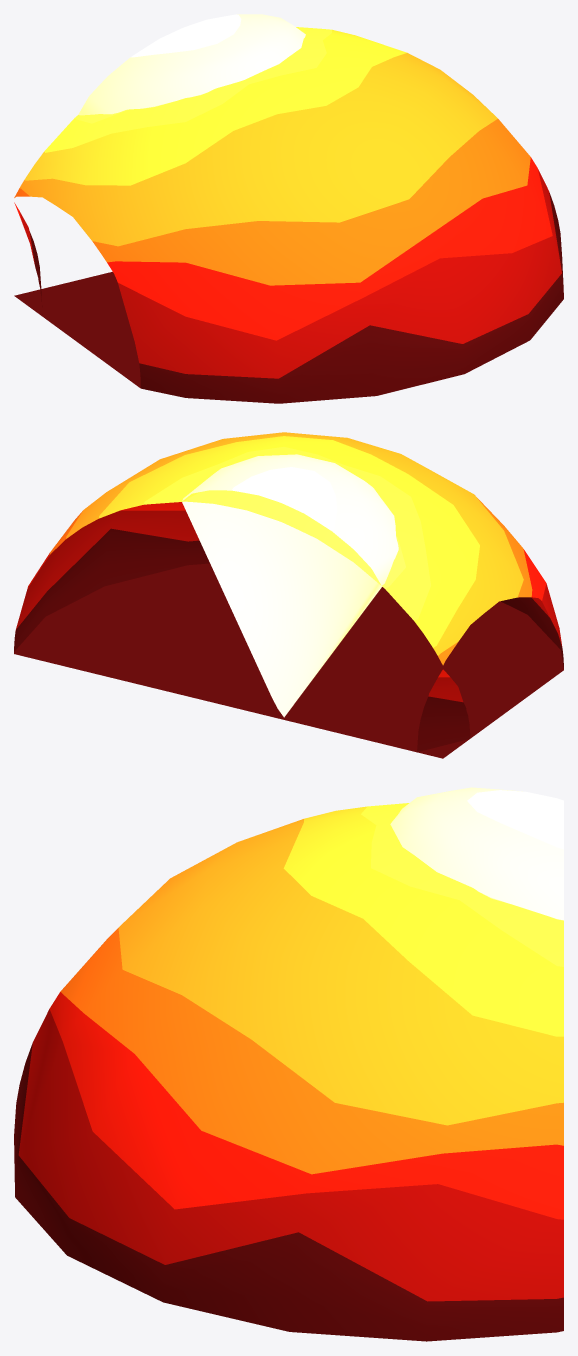
File: shot_charge_b245.glb
3 views of the same model, one above another, from view 1: azimuth 30°, elevation 25°; view 2: azimuth 150°, elevation 25°; view 3: azimuth 270°, elevation 25° (orthographic). The views are drawn at different scales.
Visible parts, largest first — view 1: charge_twin5_a_fire_shot_charge_b245, charge_twin5_a_core_shot_charge_b245; view 2: charge_twin5_a_fire_shot_charge_b245, charge_twin5_a_core_shot_charge_b245, charge_twin5_b_fire_shot_charge_b245; view 3: charge_twin5_a_fire_shot_charge_b245, charge_twin5_a_core_shot_charge_b245.
Boxes of the visible parts, x1,y1,x2,y2 form: charge_twin5_a_fire_shot_charge_b245: [14, 27, 563, 403]; charge_twin5_a_core_shot_charge_b245: [78, 14, 305, 115]; charge_twin5_a_fire_shot_charge_b245: [14, 432, 563, 754]; charge_twin5_a_core_shot_charge_b245: [182, 454, 398, 717]; charge_twin5_b_fire_shot_charge_b245: [417, 669, 470, 758]; charge_twin5_a_fire_shot_charge_b245: [14, 803, 563, 1341]; charge_twin5_a_core_shot_charge_b245: [390, 787, 563, 920].
Bounding box in the file's own units: 11 × 5.37 × 7.92.
